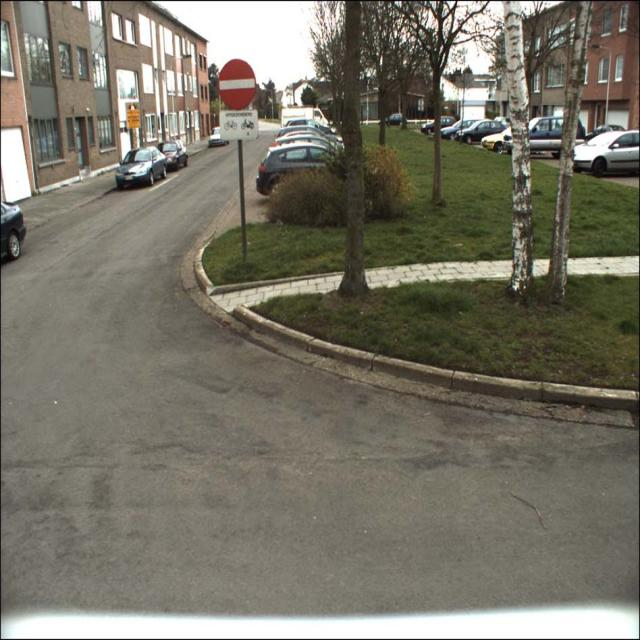girisyok: (218, 59, 256, 110)
